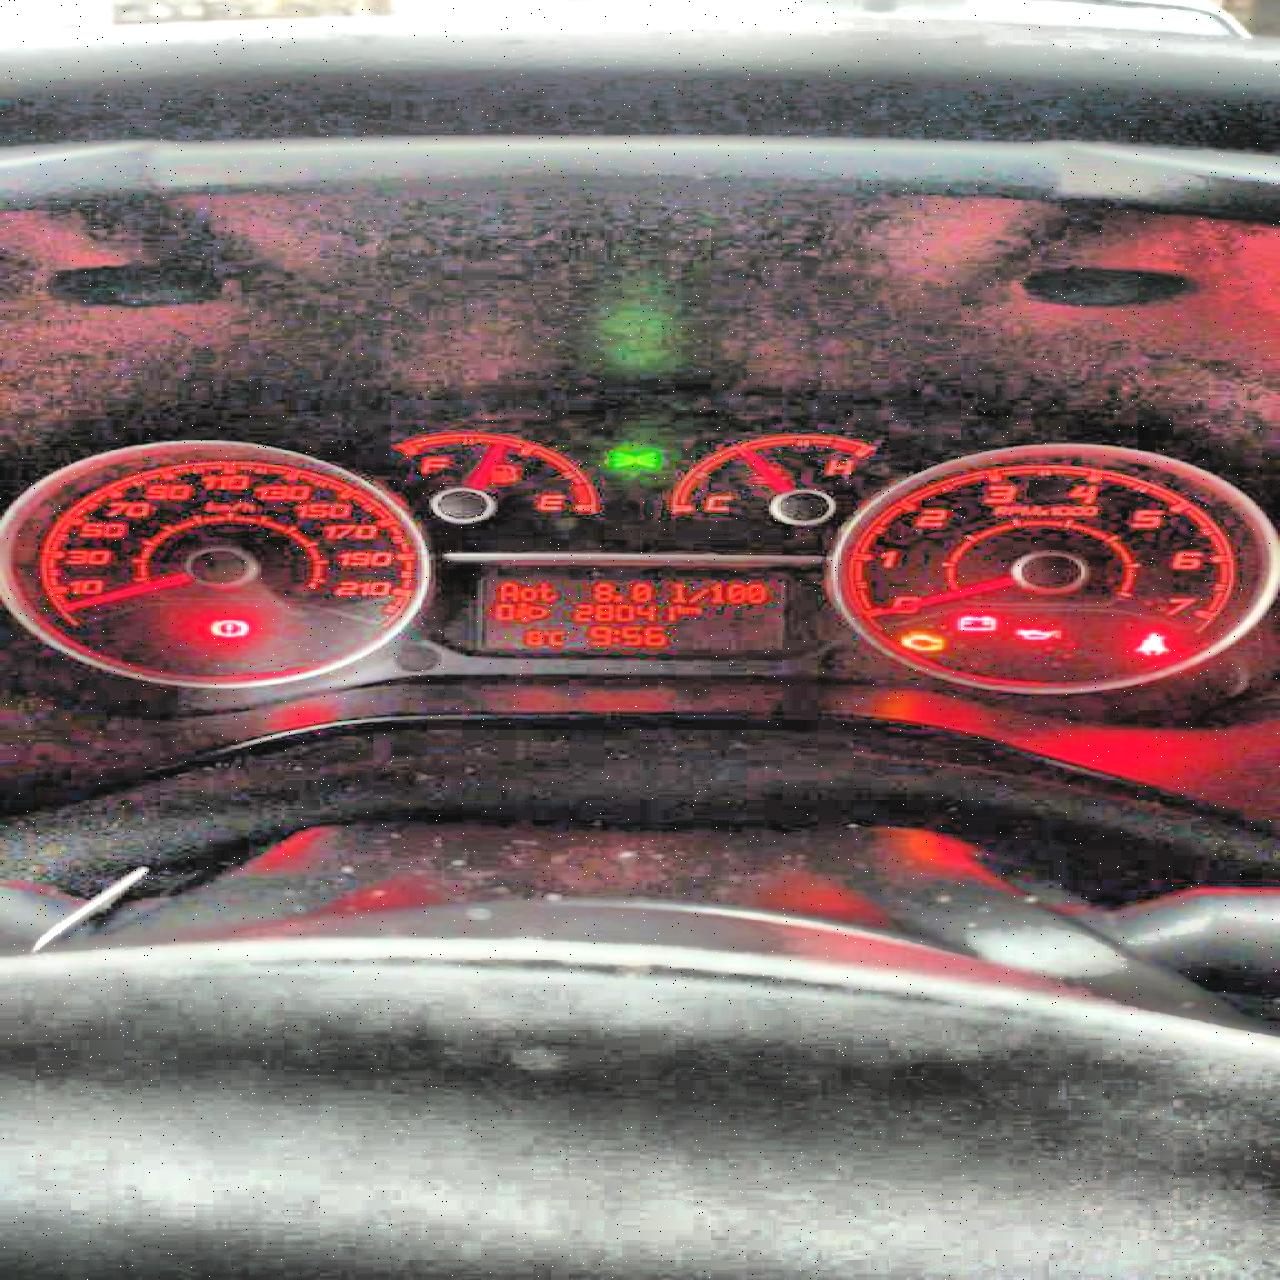-: (611, 592, 622, 601)
0: (744, 583, 767, 604), (493, 601, 513, 621), (629, 581, 651, 600), (727, 583, 742, 604), (613, 602, 631, 620)
1: (709, 581, 722, 605), (665, 605, 674, 621)
2: (573, 602, 591, 621)
4: (635, 605, 654, 621)
5: (620, 625, 642, 646)
6: (642, 625, 669, 645)
8: (591, 581, 611, 601), (593, 602, 611, 621), (524, 629, 543, 645)
9: (587, 625, 610, 645)
X: (536, 581, 560, 601), (667, 579, 685, 602), (496, 580, 516, 600), (687, 586, 707, 602), (517, 586, 536, 601), (549, 629, 564, 645), (611, 627, 620, 642), (685, 606, 700, 614), (675, 604, 685, 614)
odometer: (477, 576, 787, 651)
